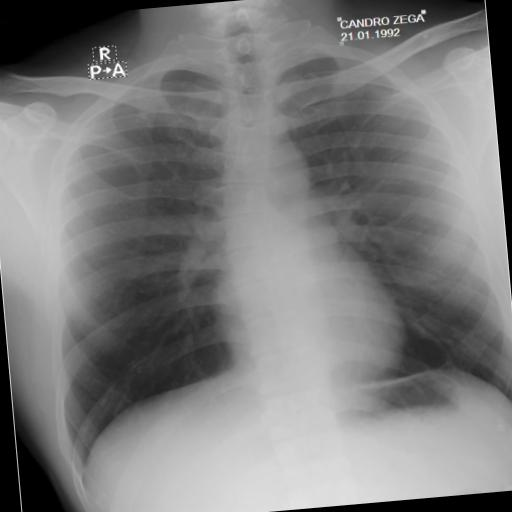normal: (22, 10, 512, 496)
